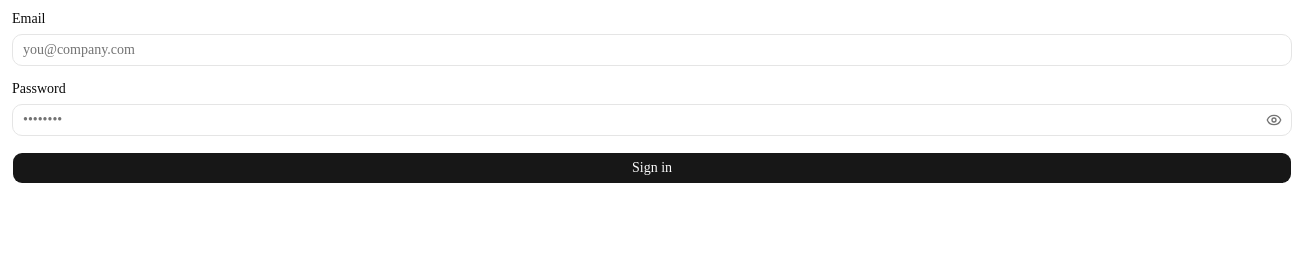
it: LoginForm › surfaces a server error returned by the action
Type "jane@acme.test" into the field labelled "Email" at (652, 50), box [12,34,1292,66]
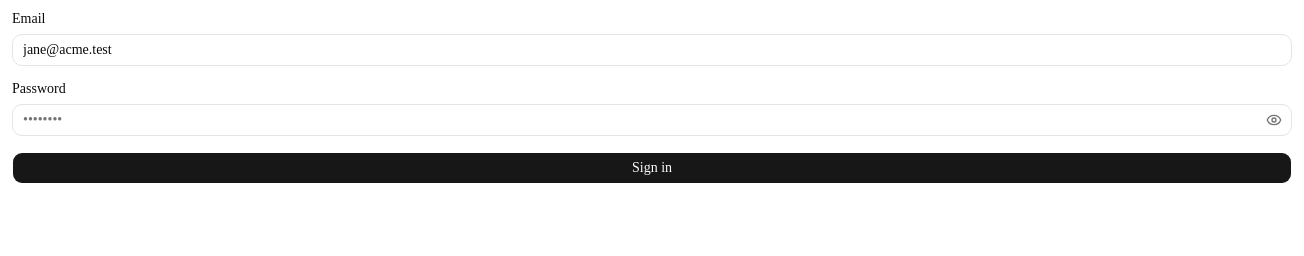
Type "secret" into the password field labelled "Password" at (652, 120), box [12,104,1292,136]
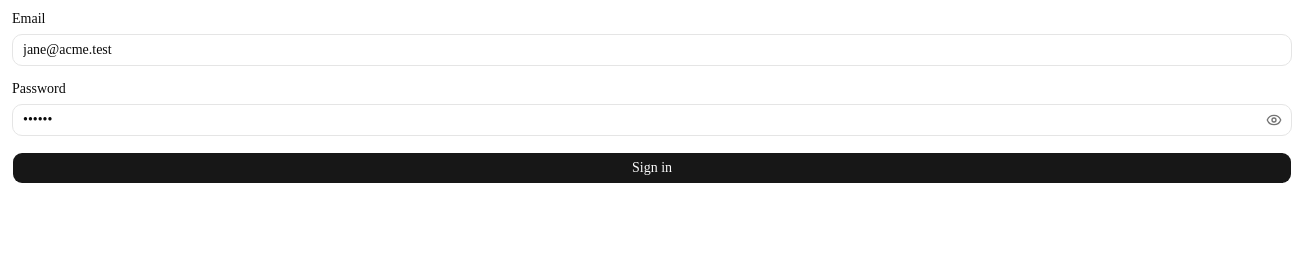
Click the button "Sign in" at (652, 168), box [12,152,1292,184]
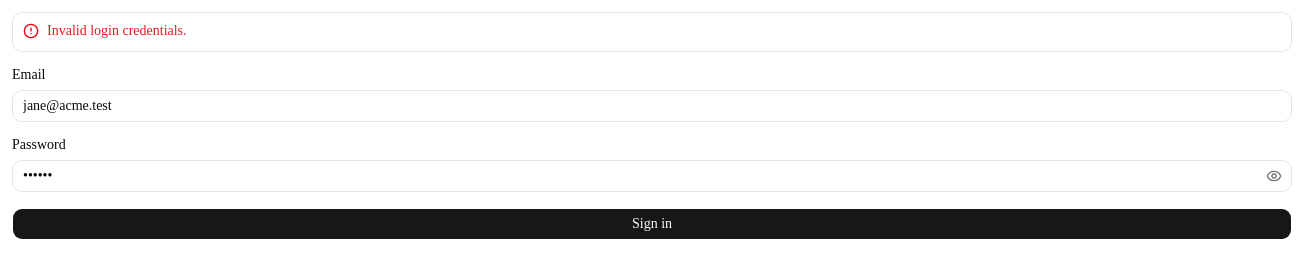
Expected: the text "Invalid login credentials." is shown, [47,23,187,38]
